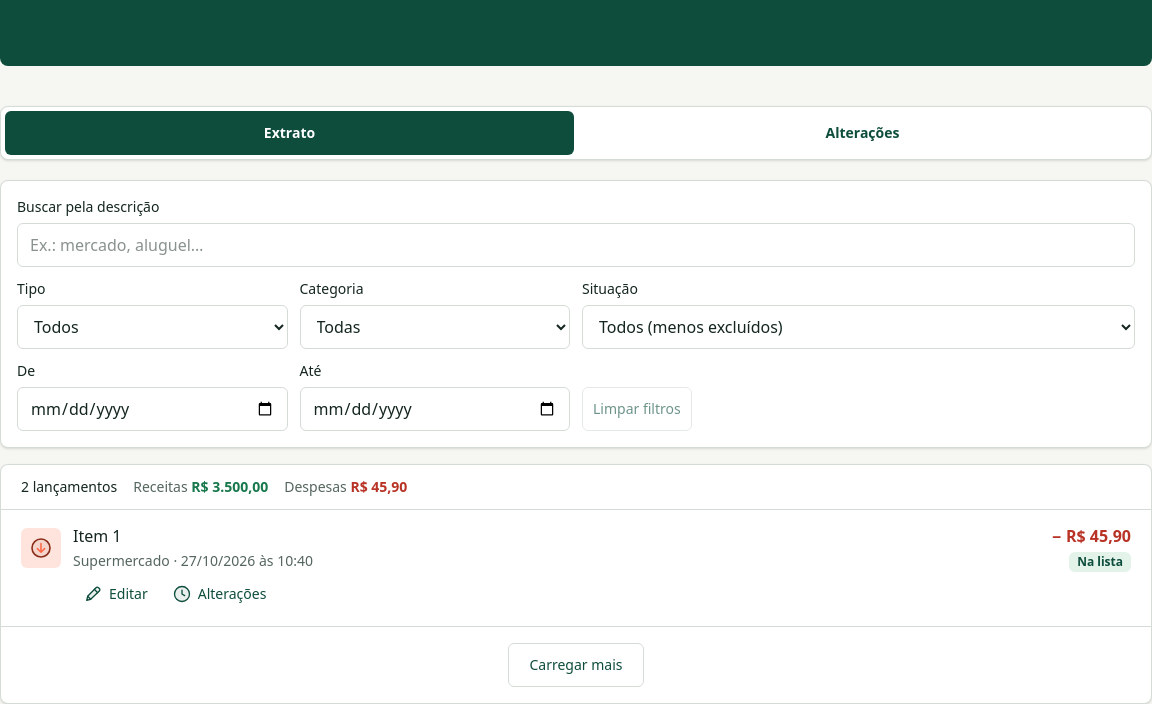
Histórico: extrato › erro ao carregar mais fica no fim da lista e mantém o que já estava
This screenshot has width=1152, height=704.
(page scrolled)
Expected: the text "Item 1" is shown, [73,525,122,547]
Click the button "Carregar mais" at (576, 665), box [508,643,644,687]
(page scrolled)
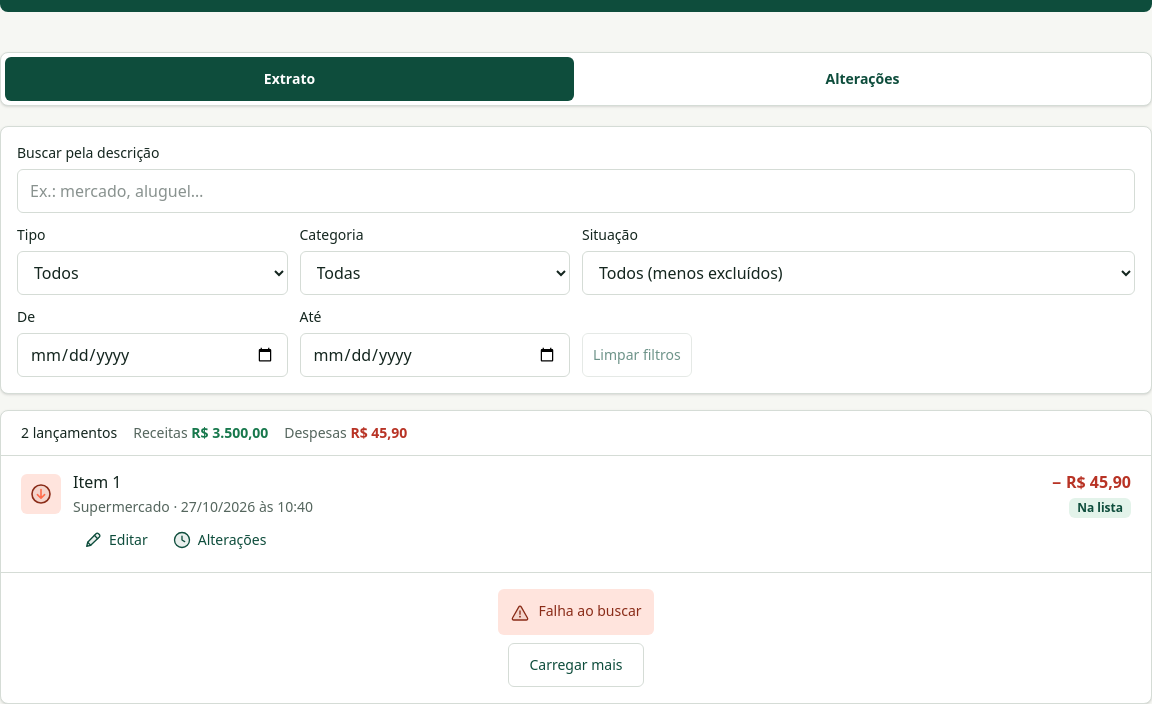
Expected: the text "Item 1" is shown, [73,471,122,493]
Expected: the message "Falha ao buscar" is shown, [498,589,654,635]
